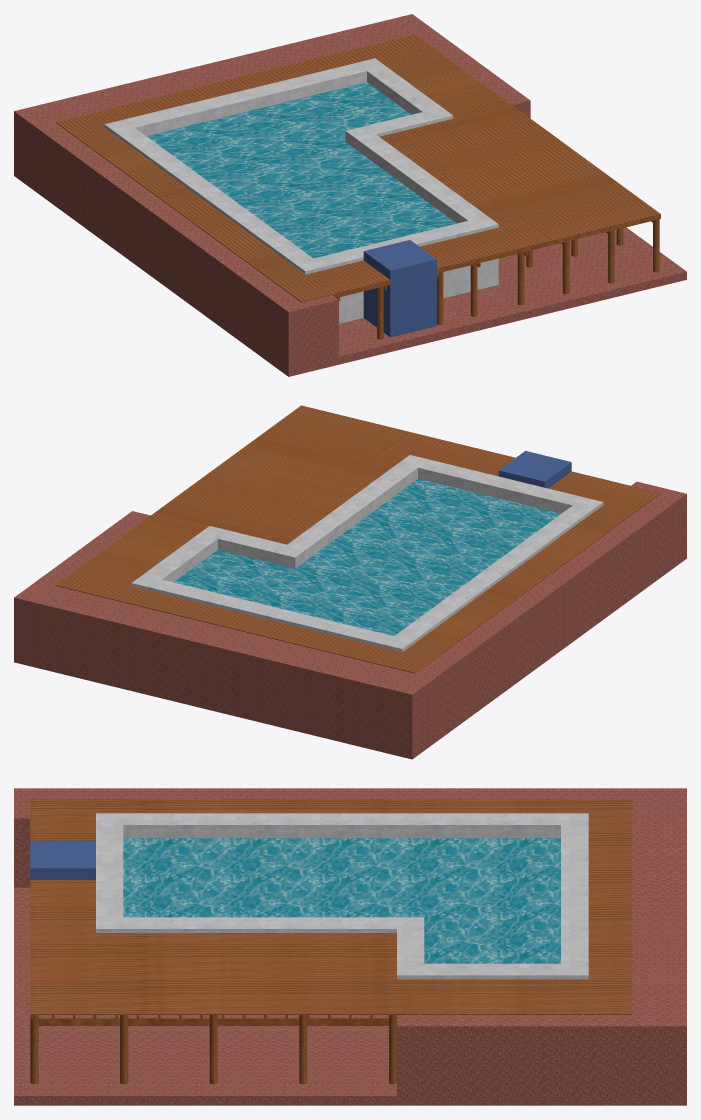
Rendered from tidal_3.glb.
3 views of the same model, one above another, from view 1: azimuth 30°, elevation 25°; view 2: azimuth 150°, elevation 25°; view 3: azimuth 270°, elevation 25° (orthographic). The views are drawn at different scales.
Parts seen in each view (by area): view 1: Model, Differen03, Differen06, Differen08, Differen18, Differen05, Differen02, Differen04, Differen07, Differen09, Differen12, Differen13 (+8 smaller); view 2: Model, Differen02, Differen07, Differen08, Differen13, Differen01, Differen03, Differen11, Differen12, Differen17, Difference, Differen04 (+8 smaller); view 3: Model, Differen02, Differen05, Differen08, Differen12, Differen15, Differen18, Differen01, Differen03, Differen04, Differen06, Differen07 (+14 smaller).
Boxes of the visible parts, x1=… form: Model: x1=14, y1=14, x2=686, y2=376; Differen03: x1=342, y1=51, x2=591, y2=232; Differen06: x1=330, y1=54, x2=579, y2=235; Differen08: x1=323, y1=56, x2=571, y2=237; Differen18: x1=284, y1=65, x2=533, y2=246; Differen05: x1=334, y1=53, x2=583, y2=234; Differen02: x1=346, y1=50, x2=595, y2=231; Differen04: x1=338, y1=52, x2=587, y2=233; Differen07: x1=327, y1=55, x2=575, y2=236; Differen09: x1=319, y1=57, x2=567, y2=238; Differen12: x1=307, y1=60, x2=556, y2=240; Differen13: x1=303, y1=60, x2=552, y2=241; Model: x1=14, y1=405, x2=686, y2=759; Differen02: x1=121, y1=421, x2=370, y2=602; Differen07: x1=140, y1=426, x2=389, y2=607; Differen08: x1=144, y1=427, x2=393, y2=608; Differen13: x1=164, y1=432, x2=412, y2=613; Differen01: x1=117, y1=420, x2=366, y2=601; Differen03: x1=125, y1=422, x2=374, y2=603; Differen11: x1=156, y1=430, x2=404, y2=611; Differen12: x1=160, y1=431, x2=408, y2=612; Differen17: x1=179, y1=435, x2=428, y2=616; Difference: x1=113, y1=419, x2=362, y2=600; Differen04: x1=129, y1=423, x2=378, y2=604; Model: x1=14, y1=788, x2=686, y2=1105; Differen02: x1=30, y1=972, x2=632, y2=974; Differen05: x1=30, y1=965, x2=632, y2=967; Differen08: x1=30, y1=958, x2=632, y2=960; Differen12: x1=30, y1=949, x2=632, y2=951; Differen15: x1=30, y1=942, x2=632, y2=944; Differen18: x1=30, y1=935, x2=632, y2=937; Differen01: x1=30, y1=974, x2=632, y2=976; Differen03: x1=30, y1=970, x2=632, y2=972; Differen04: x1=30, y1=967, x2=632, y2=969; Differen06: x1=30, y1=963, x2=632, y2=965; Differen07: x1=30, y1=960, x2=632, y2=962.
Size of the model in its own units: 1030 by 185 by 1230.
Materials: 6 (5 with a texture image).
